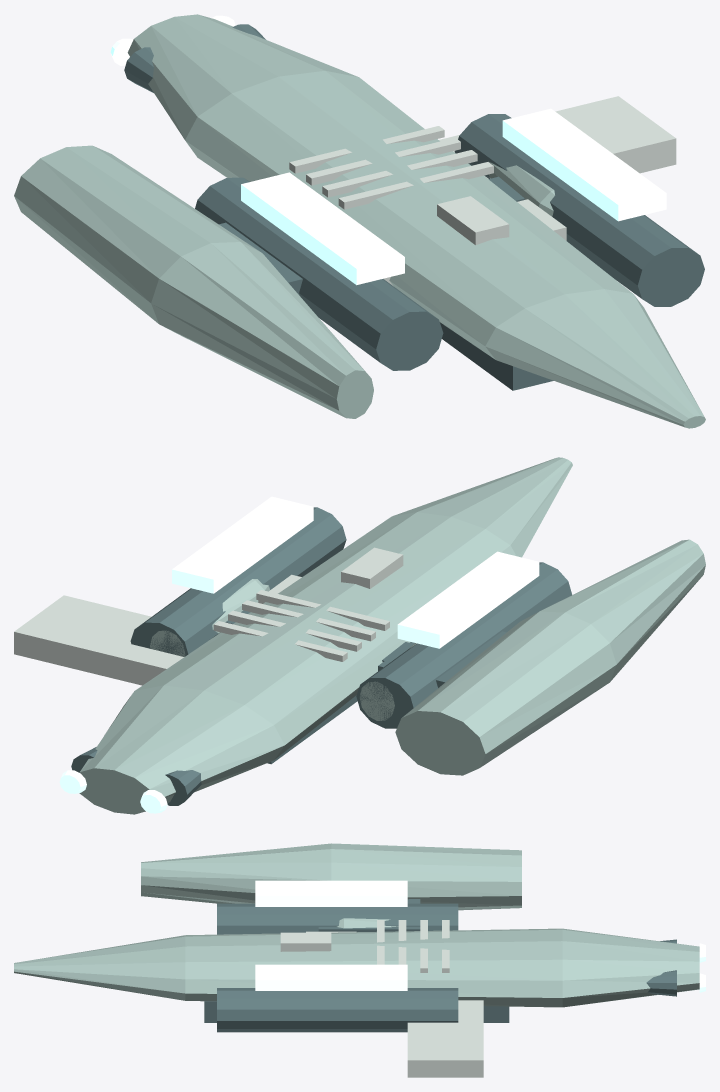
The picture shows the model from 3 angles, top to bottom: view 1: azimuth 30°, elevation 25°; view 2: azimuth 150°, elevation 25°; view 3: azimuth 270°, elevation 25°; orthographic projection. The views are drawn at different scales.
Size of the model in its own units: 6.43 by 1.34 by 10.03.
